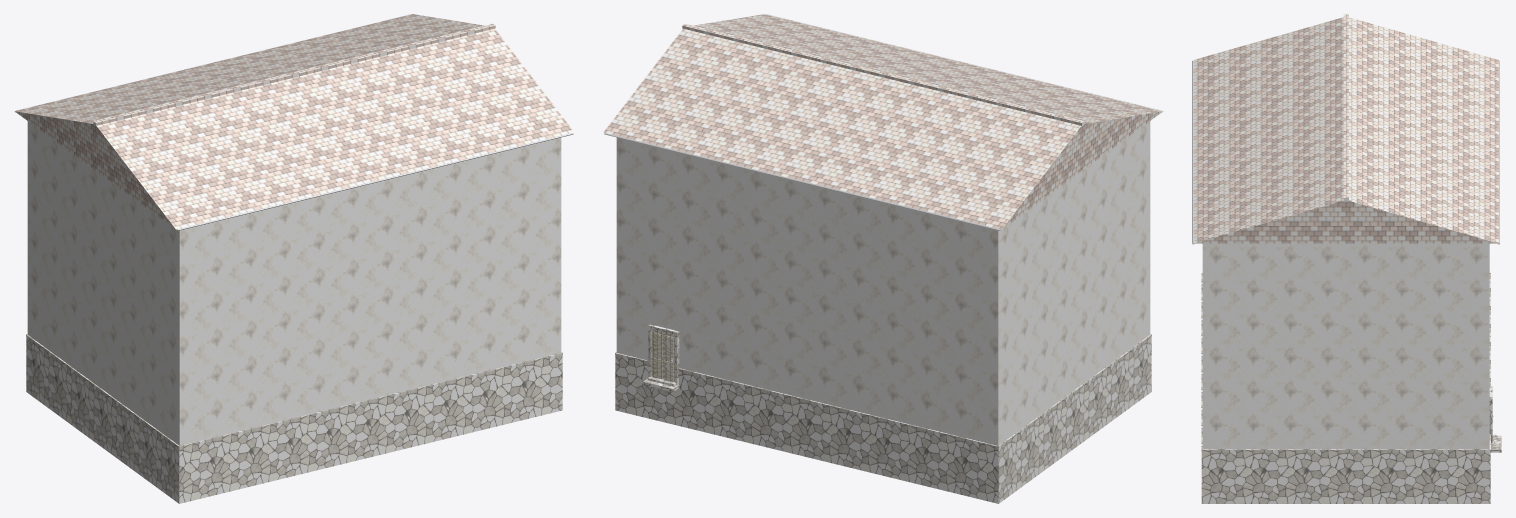
The picture shows the model from 3 angles, left to right: view 1: azimuth 30°, elevation 25°; view 2: azimuth 150°, elevation 25°; view 3: azimuth 270°, elevation 25°; orthographic projection. The views are drawn at different scales.
Parts seen in each view (by area): view 1: b1085400563; view 2: b1085400563; view 3: b1085400563.
Boxes of the visible parts, bbox=[...] form: b1085400563: bbox=[14, 14, 574, 503]; b1085400563: bbox=[603, 14, 1163, 503]; b1085400563: bbox=[1192, 14, 1501, 503].
Size of the model in its own units: 16.4 by 12.86 by 11.64.
Materials: 11 (11 with a texture image).
